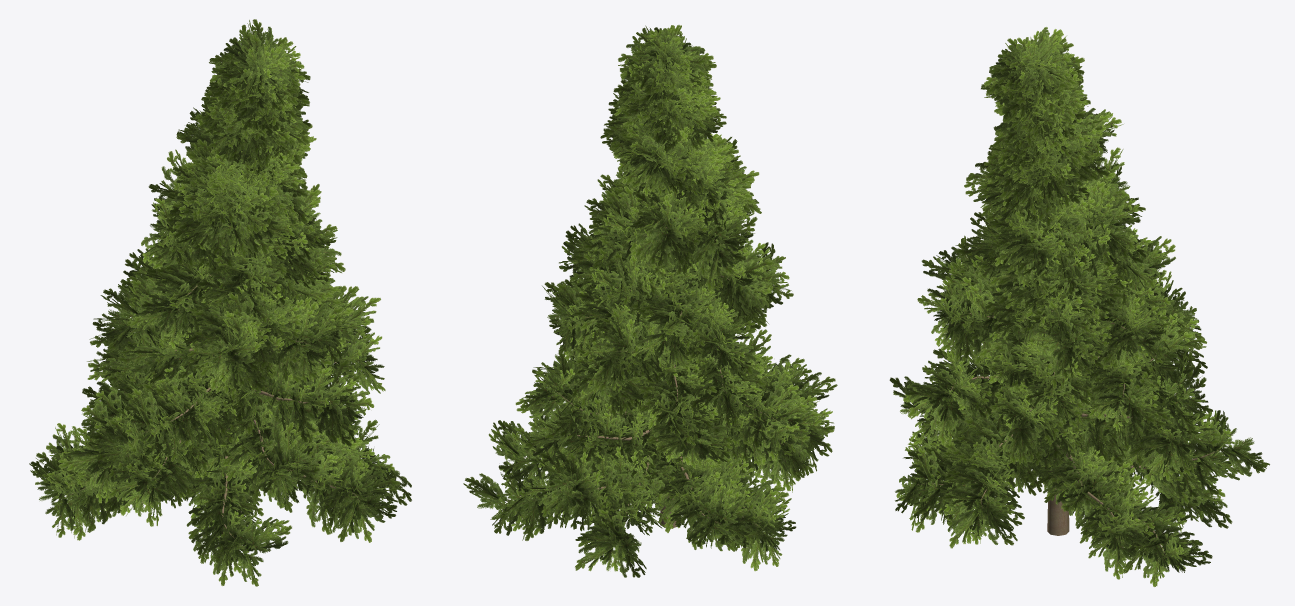
File: ez-spruce.glb
The picture shows the model from 3 angles, left to right: view 1: azimuth 30°, elevation 25°; view 2: azimuth 150°, elevation 25°; view 3: azimuth 270°, elevation 25°; orthographic projection. The views are drawn at different scales.
Visible parts, largest first — view 1: Tree; view 2: Tree; view 3: Tree.
Boxes of the visible parts, x1=… form: Tree: x1=29, y1=19, x2=411, y2=586; Tree: x1=463, y1=25, x2=837, y2=577; Tree: x1=889, y1=27, x2=1269, y2=586.
Bounding box in the file's own units: 37.31 × 55.74 × 38.38.
Materials: 2 (2 with a texture image).
